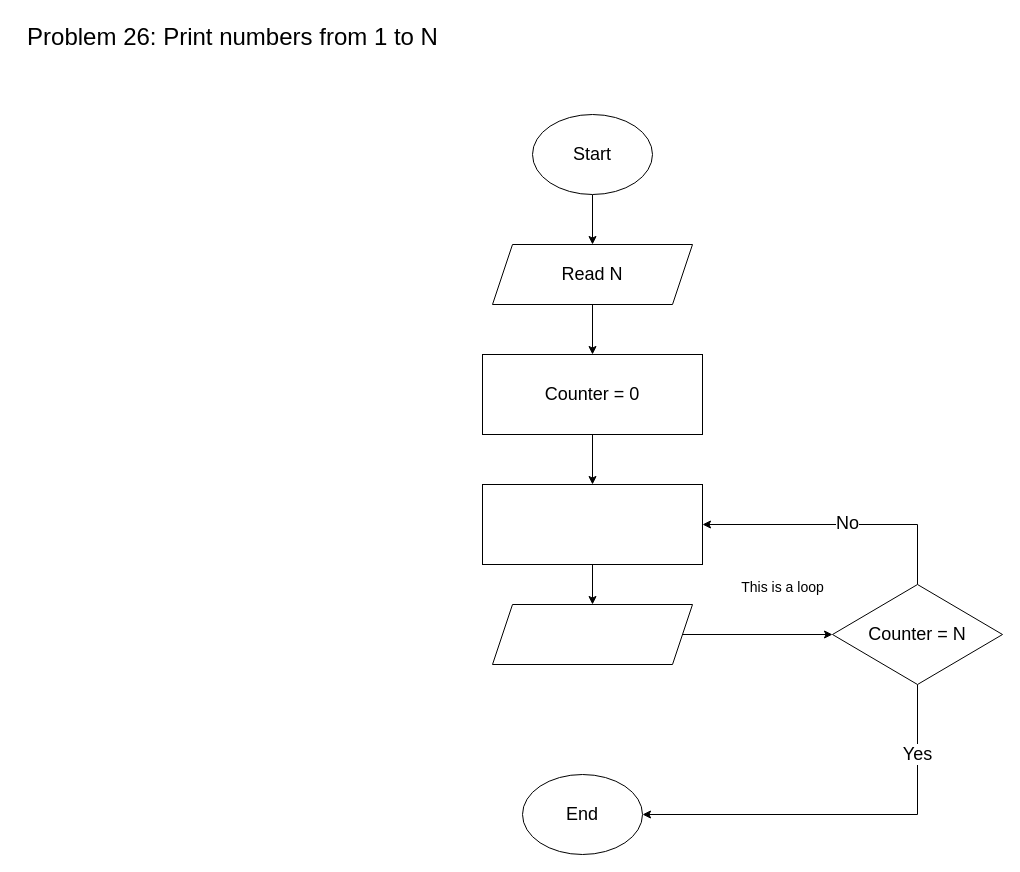
Image size: 1020x872. Some labels were removed from this diagram. The shapes that lost their labels are listed below. From the top down, each one's box as (x1, y1, x2, y2) in pixels, then its label:
(482, 484, 702, 564): Counter = Counter + 1
(492, 604, 692, 664): Print Counter
